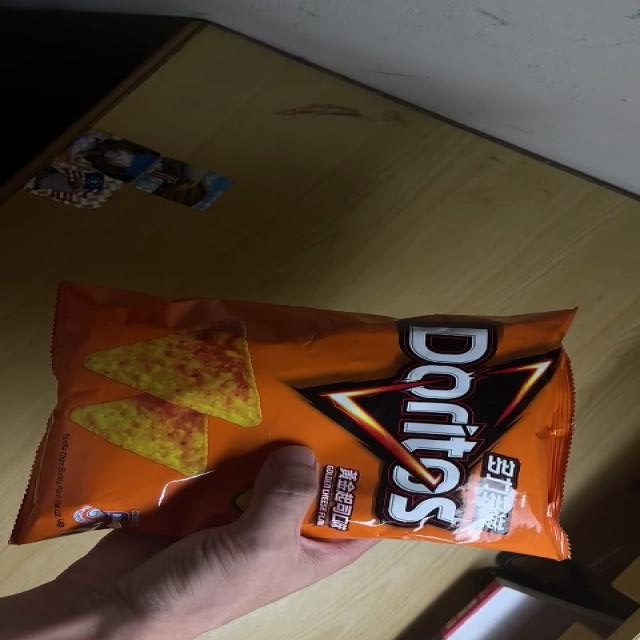Doritos: (6, 280, 582, 561)
